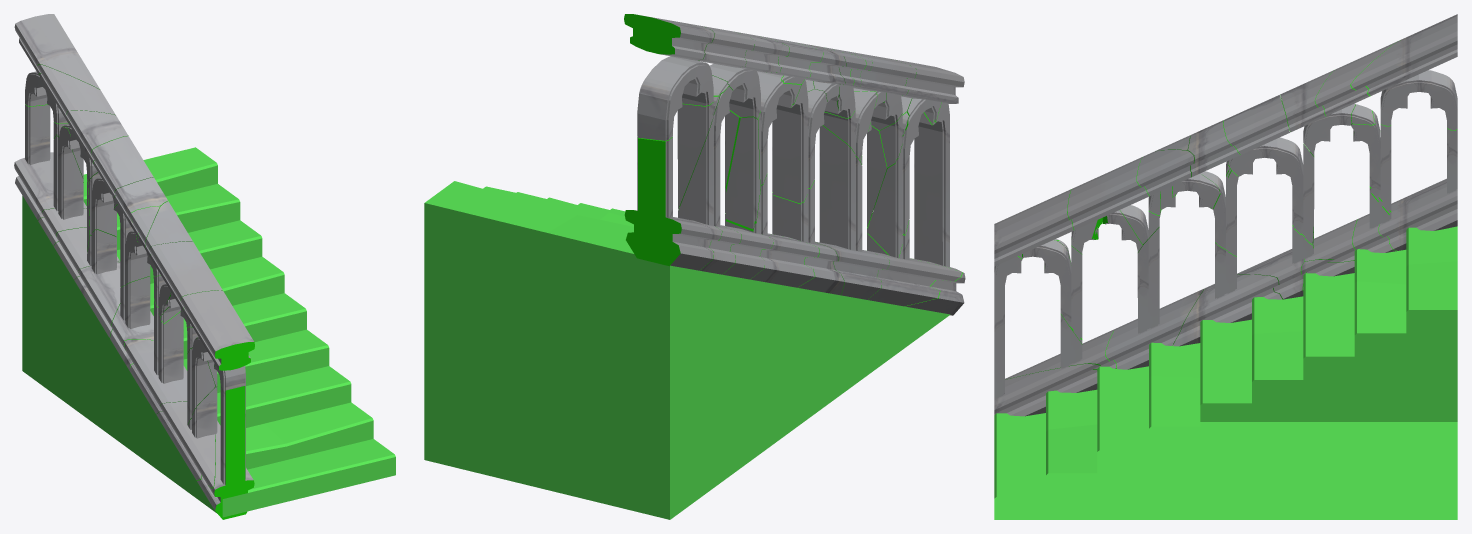
The model's file is SM_Stair1mEnd_Broken.fbx.
The picture shows the model from 3 angles, left to right: view 1: azimuth 30°, elevation 25°; view 2: azimuth 150°, elevation 25°; view 3: azimuth 270°, elevation 25°; orthographic projection. The views are drawn at different scales.
Visible parts, largest first — view 1: SM_Stair1mEnd_Broken_00, SM_Stair1mEnd_Broken_10, SM_Stair1mEnd_Broken_21, SM_Stair1mEnd_Broken_14, SM_Stair1mEnd_Broken_17, SM_Stair1mEnd_Broken_05, SM_Stair1mEnd_Broken_08, SM_Stair1mEnd_Broken_18, SM_Stair1mEnd_Broken_12, SM_Stair1mEnd_Broken_03, SM_Stair1mEnd_Broken_43, SM_Stair1mEnd_Broken_04 (+18 smaller); view 2: SM_Stair1mEnd_Broken_00, SM_Stair1mEnd_Broken_21, SM_Stair1mEnd_Broken_38, SM_Stair1mEnd_Broken_51, SM_Stair1mEnd_Broken_37, SM_Stair1mEnd_Broken_46, SM_Stair1mEnd_Broken_04, SM_Stair1mEnd_Broken_44, SM_Stair1mEnd_Broken_05, SM_Stair1mEnd_Broken_14, SM_Stair1mEnd_Broken_49, SM_Stair1mEnd_Broken_03 (+26 smaller); view 3: SM_Stair1mEnd_Broken_00, SM_Stair1mEnd_Broken_14, SM_Stair1mEnd_Broken_10, SM_Stair1mEnd_Broken_02, SM_Stair1mEnd_Broken_06, SM_Stair1mEnd_Broken_17, SM_Stair1mEnd_Broken_04, SM_Stair1mEnd_Broken_08, SM_Stair1mEnd_Broken_38, SM_Stair1mEnd_Broken_18, SM_Stair1mEnd_Broken_48, SM_Stair1mEnd_Broken_12 (+26 smaller).
Boxes of the visible parts, x1=… form: SM_Stair1mEnd_Broken_00: x1=22, y1=147, x2=395, y2=517; SM_Stair1mEnd_Broken_10: x1=181, y1=290, x2=254, y2=370; SM_Stair1mEnd_Broken_21: x1=214, y1=365, x2=245, y2=492; SM_Stair1mEnd_Broken_14: x1=14, y1=14, x2=100, y2=89; SM_Stair1mEnd_Broken_17: x1=149, y1=241, x2=222, y2=310; SM_Stair1mEnd_Broken_05: x1=156, y1=401, x2=215, y2=487; SM_Stair1mEnd_Broken_08: x1=124, y1=339, x2=187, y2=414; SM_Stair1mEnd_Broken_18: x1=91, y1=136, x2=153, y2=197; SM_Stair1mEnd_Broken_12: x1=37, y1=64, x2=115, y2=123; SM_Stair1mEnd_Broken_03: x1=74, y1=261, x2=120, y2=337; SM_Stair1mEnd_Broken_43: x1=58, y1=127, x2=83, y2=219; SM_Stair1mEnd_Broken_04: x1=14, y1=152, x2=86, y2=220; SM_Stair1mEnd_Broken_00: x1=424, y1=181, x2=950, y2=519; SM_Stair1mEnd_Broken_21: x1=914, y1=102, x2=949, y2=266; SM_Stair1mEnd_Broken_38: x1=637, y1=56, x2=713, y2=140; SM_Stair1mEnd_Broken_51: x1=819, y1=125, x2=855, y2=250; SM_Stair1mEnd_Broken_37: x1=637, y1=137, x2=672, y2=253; SM_Stair1mEnd_Broken_46: x1=772, y1=79, x2=808, y2=203; SM_Stair1mEnd_Broken_04: x1=624, y1=210, x2=721, y2=270; SM_Stair1mEnd_Broken_44: x1=725, y1=117, x2=760, y2=229; SM_Stair1mEnd_Broken_05: x1=863, y1=250, x2=961, y2=306; SM_Stair1mEnd_Broken_14: x1=624, y1=14, x2=714, y2=60; SM_Stair1mEnd_Broken_49: x1=867, y1=144, x2=902, y2=257; SM_Stair1mEnd_Broken_03: x1=750, y1=233, x2=819, y2=287; SM_Stair1mEnd_Broken_00: x1=994, y1=226, x2=1457, y2=519; SM_Stair1mEnd_Broken_14: x1=1351, y1=14, x2=1457, y2=95; SM_Stair1mEnd_Broken_10: x1=994, y1=189, x2=1073, y2=266; SM_Stair1mEnd_Broken_02: x1=994, y1=363, x2=1099, y2=416; SM_Stair1mEnd_Broken_06: x1=1173, y1=274, x2=1282, y2=346; SM_Stair1mEnd_Broken_17: x1=1067, y1=157, x2=1149, y2=230; SM_Stair1mEnd_Broken_04: x1=1378, y1=178, x2=1457, y2=250; SM_Stair1mEnd_Broken_08: x1=1105, y1=288, x2=1204, y2=369; SM_Stair1mEnd_Broken_38: x1=1380, y1=70, x2=1457, y2=129; SM_Stair1mEnd_Broken_18: x1=1223, y1=95, x2=1289, y2=154; SM_Stair1mEnd_Broken_48: x1=1228, y1=137, x2=1303, y2=234; SM_Stair1mEnd_Broken_12: x1=1315, y1=40, x2=1399, y2=115.
Bounding box in the file's own units: 1.05 × 1.95 × 2.
